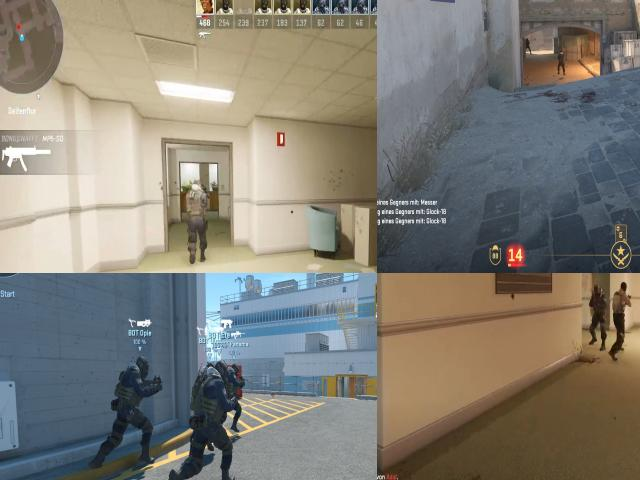CT: (188, 363, 230, 480), (115, 355, 150, 471), (182, 170, 209, 231), (223, 358, 246, 424), (190, 361, 214, 419), (591, 281, 608, 322), (558, 51, 564, 76), (525, 38, 532, 54)
CT-Head: (189, 176, 203, 196), (134, 356, 148, 374), (591, 282, 602, 298), (217, 362, 228, 374), (206, 361, 215, 370), (232, 363, 238, 375), (560, 52, 562, 54), (526, 38, 528, 40)
T: (608, 279, 631, 322)
T-Head: (614, 278, 630, 294)
